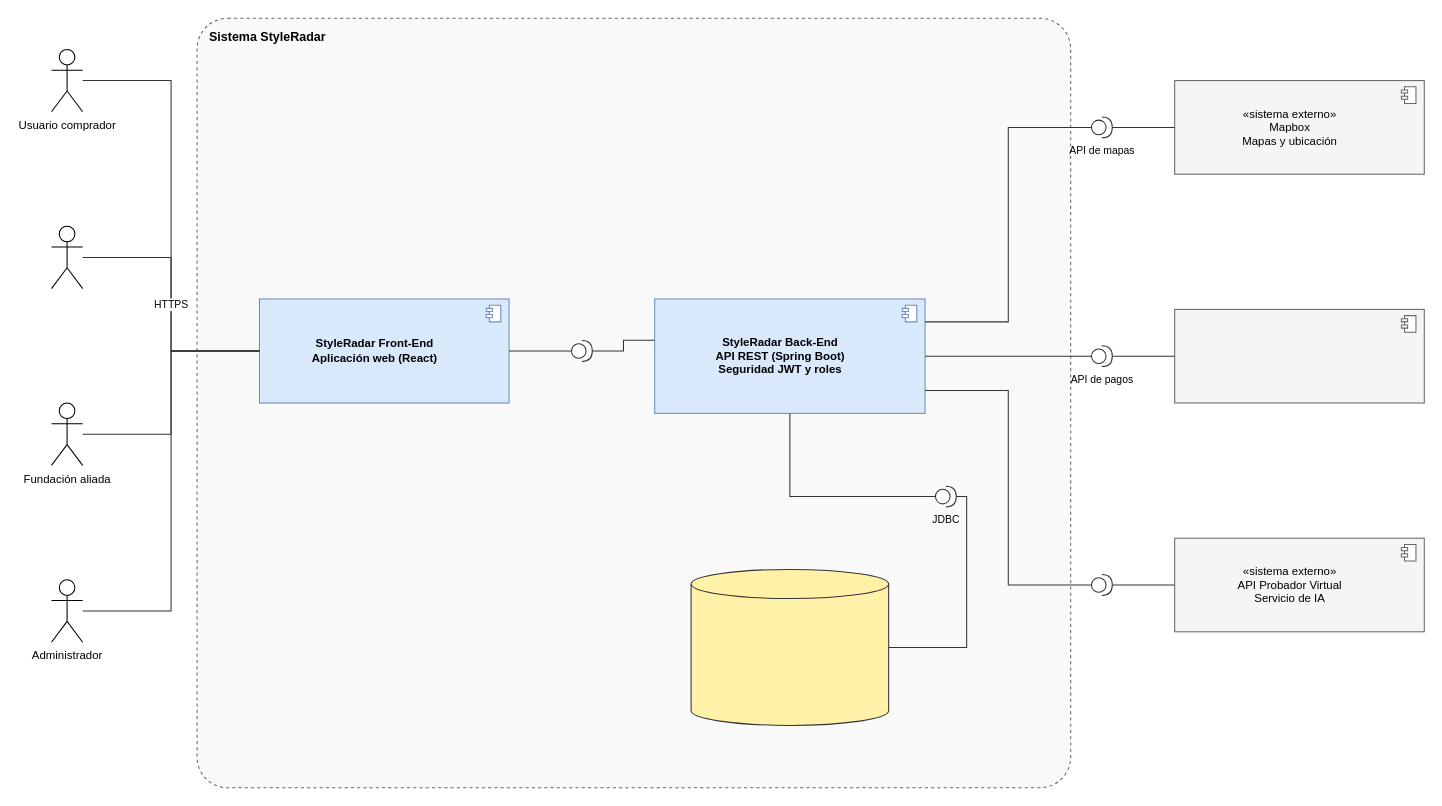
This 1442x806 diagram has some shape labels left out. Each missing label, with the box of its shape:
Almacén: (50, 225, 83, 289)
API de IA: (1090, 574, 1112, 595)
API REST /api/v1: (570, 340, 592, 361)
Base de datos PostgreSQL: (690, 568, 889, 725)
«sistema externo» PSE Pasarela de pagos: (1174, 308, 1424, 403)
